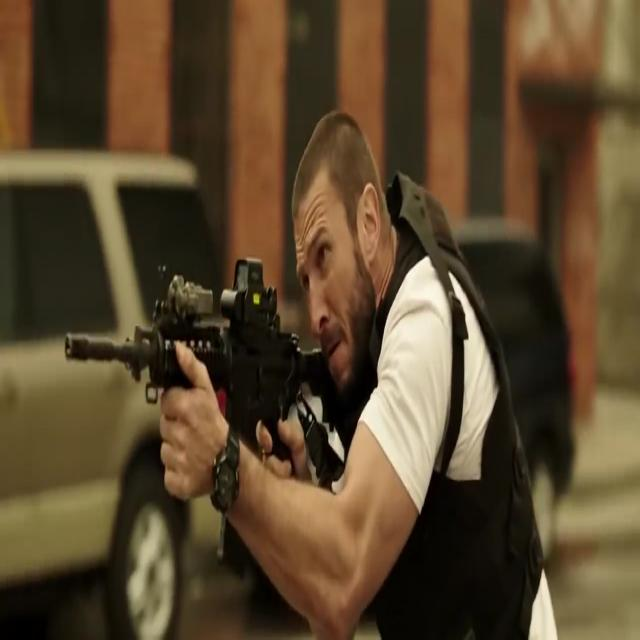Weapon: (51, 299, 331, 502)
